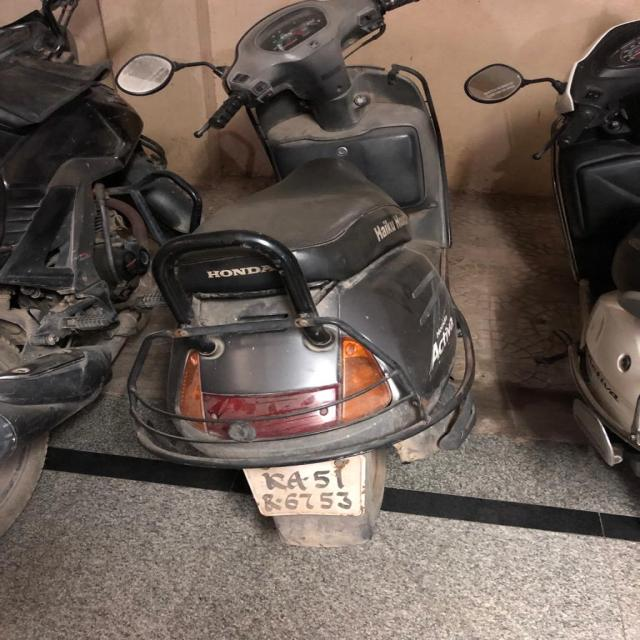number plate: (241, 453, 367, 518)
